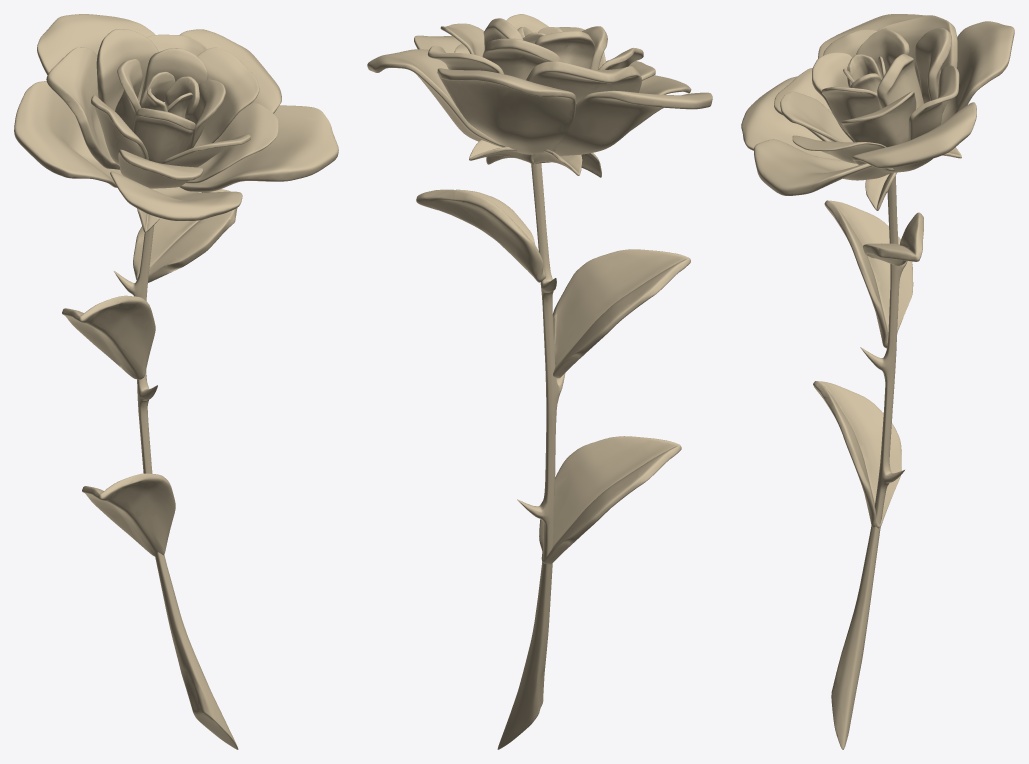
Rendered from rose.glb.
The picture shows the model from 3 angles, left to right: view 1: azimuth 30°, elevation 25°; view 2: azimuth 150°, elevation 25°; view 3: azimuth 270°, elevation 25°; orthographic projection. The views are drawn at different scales.
Visible parts, largest first — view 1: empty_3; view 2: empty_3; view 3: empty_3.
Part boxes in pixels (box(x1,y1,x2,y2)): empty_3: box(14, 14, 338, 749); empty_3: box(367, 14, 712, 749); empty_3: box(741, 14, 1014, 749).
Size of the model in its own units: 9.85 by 23.39 by 8.46.
